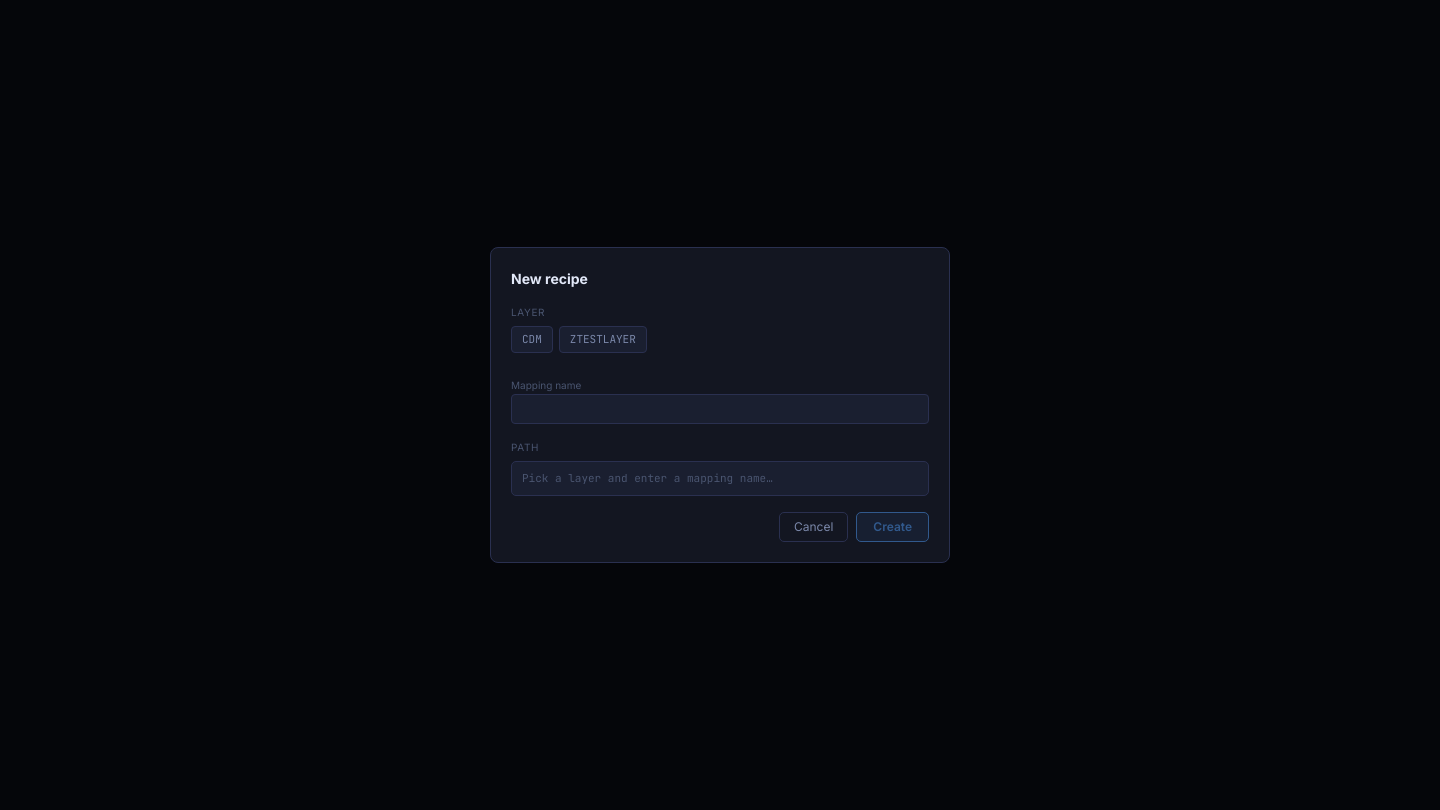
Test case: NewRecipeDialog › trims the mapping name before composing the path
This screenshot has width=1440, height=810.
Click the button "CDM". click: (532, 340)
box: [511, 326, 553, 353]
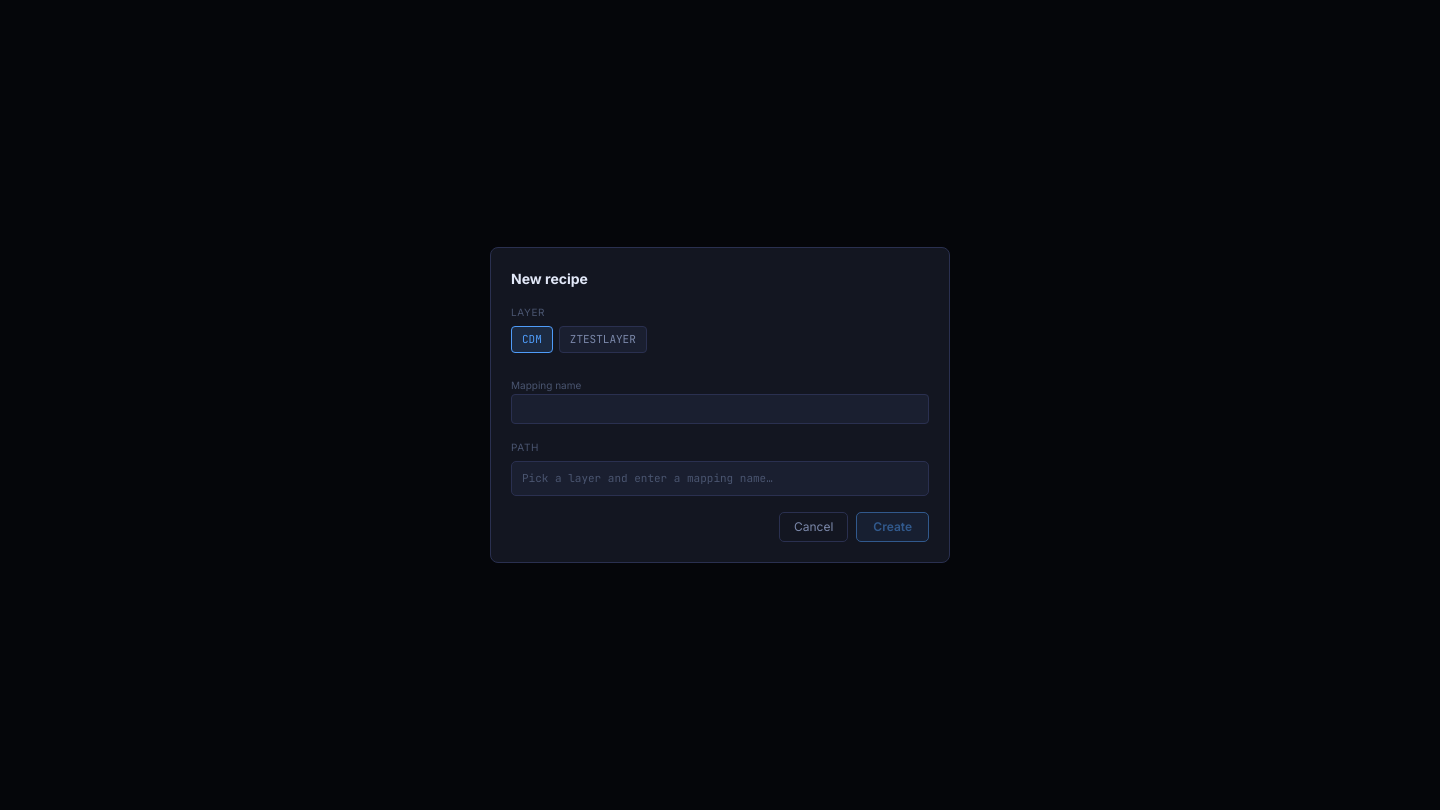
Type "  m_NEW_ONE  " into the field labelled "Mapping name". click: (720, 409)
box: [511, 394, 929, 424]
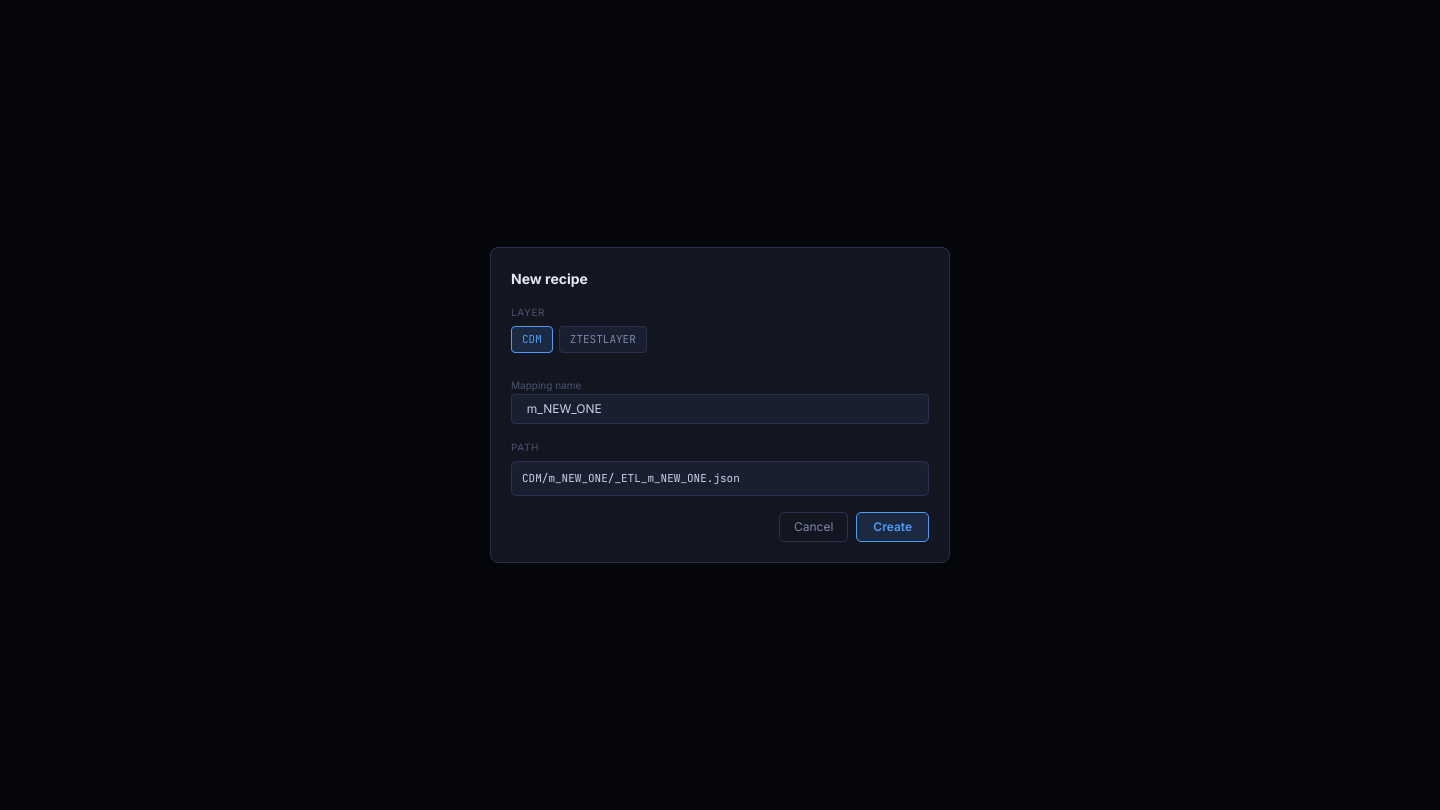
Result: the text "CDM/m_NEW_ONE/_ETL_m_NEW_ONE.json" is shown at [511, 461, 929, 496]
